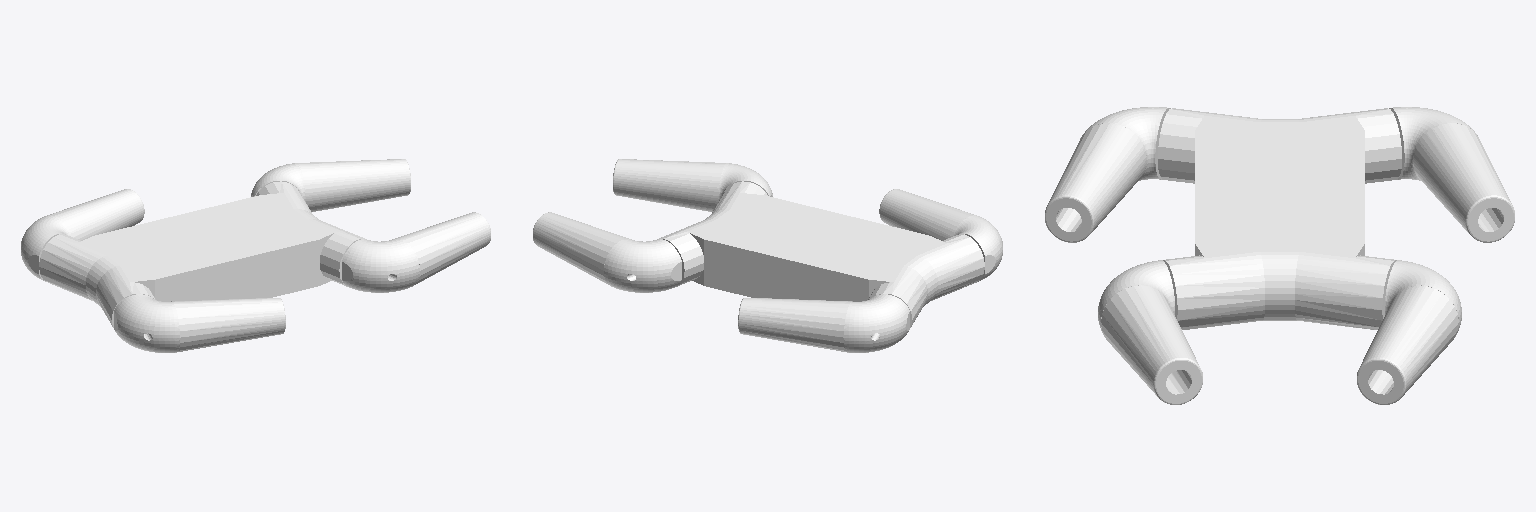
The robot description file, URDF, robot "16_degree":
<?xml version="1.0" encoding="utf-8"?>
<!-- This URDF was automatically created by SolidWorks to URDF Exporter! Originally created by [author] ([email redacted]) 
     Commit Version: 1.5.1-0-g916b5db  Build Version: 1.5.7152.31018
     For more information, please see http://wiki.ros.org/sw_urdf_exporter -->
<robot
  name="16_degree">
  <link
    name="base_link">
    <inertial>
      <origin
        xyz="-2.7756E-17 5.5257E-08 5.2042E-18"
        rpy="0 0 0" />
      <mass
        value="2.803" />
      <inertia
        ixx="0.009941766"
        ixy="-4.2319E-18"
        ixz="-8.4142E-11"
        iyy="0.041207589"
        iyz="2.9038E-18"
        izz="0.048782193" />
    </inertial>
    <visual>
      <origin
        xyz="0 0 0"
        rpy="0 0 0" />
      <geometry>
        <mesh
          filename="package://16_degree/meshes/base_link.STL" />
      </geometry>
      <material
        name="">
        <color
          rgba="1 1 1 1" />
      </material>
    </visual>
    <collision>
      <origin
        xyz="0 0 0"
        rpy="0 0 0" />
      <geometry>
        <mesh
          filename="package://16_degree/meshes/base_link.STL" />
      </geometry>
    </collision>
  </link>
  <link
    name="left_fromt_link">
    <inertial>
      <origin
        xyz="-1.0563E-07 0.070185 -0.017552"
        rpy="0 0 0" />
      <mass
        value="0.0896" />
      <inertia
        ixx="0.000297234"
        ixy="3.2358E-10"
        ixz="6.0751E-10"
        iyy="0.000056711"
        iyz="-0.000045165"
        izz="0.000288163" />
    </inertial>
    <visual>
      <origin
        xyz="0 0 0"
        rpy="0 0 0" />
      <geometry>
        <mesh
          filename="package://16_degree/meshes/left_fromt_link.STL" />
      </geometry>
      <material
        name="">
        <color
          rgba="1 1 1 1" />
      </material>
    </visual>
    <collision>
      <origin
        xyz="0 0 0"
        rpy="0 0 0" />
      <geometry>
        <mesh
          filename="package://16_degree/meshes/left_fromt_link.STL" />
      </geometry>
    </collision>
  </link>
  <joint
    name="left_front_leg"
    type="continuous">
    <origin
      xyz="0.15839 0.09901 0"
      rpy="1.5708 1.5708 0" />
    <parent
      link="base_link" />
    <child
      link="left_fromt_link" />
    <axis
      xyz="0 0.27564 -0.96126" />
    <limit
      effort="5"
      velocity="487" />
  </joint>
  <link
    name="right_front_link">
    <inertial>
      <origin
        xyz="1.0563E-07 0.070185 0.017552"
        rpy="0 0 0" />
      <mass
        value="0.0896" />
      <inertia
        ixx="0.000297234"
        ixy="-3.2358E-10"
        ixz="6.0751E-10"
        iyy="0.000056711"
        iyz="0.000045165"
        izz="0.000288163" />
    </inertial>
    <visual>
      <origin
        xyz="0 0 0"
        rpy="0 0 0" />
      <geometry>
        <mesh
          filename="package://16_degree/meshes/right_front_link.STL" />
      </geometry>
      <material
        name="">
        <color
          rgba="1 1 1 1" />
      </material>
    </visual>
    <collision>
      <origin
        xyz="0 0 0"
        rpy="0 0 0" />
      <geometry>
        <mesh
          filename="package://16_degree/meshes/right_front_link.STL" />
      </geometry>
    </collision>
  </link>
  <joint
    name="right_front_leg"
    type="continuous">
    <origin
      xyz="0.15839 -0.09901 0"
      rpy="1.5708 1.5708 0" />
    <parent
      link="base_link" />
    <child
      link="right_front_link" />
    <axis
      xyz="0 0.27564 0.96126" />
    <limit
      effort="5"
      velocity="487" />
  </joint>
  <link
    name="right_back_link">
    <inertial>
      <origin
        xyz="8.1858E-08 0.062629 0.036218"
        rpy="0 0 0" />
      <mass
        value="0.0896" />
      <inertia
        ixx="0.000297234"
        ixy="-5.67E-10"
        ixz="6.0413E-10"
        iyy="0.000050362"
        iyz="-0.000023023"
        izz="0.000294512" />
    </inertial>
    <visual>
      <origin
        xyz="0 0 0"
        rpy="0 0 0" />
      <geometry>
        <mesh
          filename="package://16_degree/meshes/right_back_link.STL" />
      </geometry>
      <material
        name="">
        <color
          rgba="1 1 1 1" />
      </material>
    </visual>
    <collision>
      <origin
        xyz="0 0 0"
        rpy="0 0 0" />
      <geometry>
        <mesh
          filename="package://16_degree/meshes/right_back_link.STL" />
      </geometry>
    </collision>
  </link>
  <joint
    name="right_back_leg"
    type="continuous">
    <origin
      xyz="-0.15839 -0.09901 0"
      rpy="1.85 1.5708 0" />
    <parent
      link="base_link" />
    <child
      link="right_back_link" />
    <axis
      xyz="0 0 1" />
    <limit
      effort="5"
      velocity="487" />
  </joint>
  <link
    name="left_back_link">
    <inertial>
      <origin
        xyz="-8.1858E-08 0.05022 -0.052078"
        rpy="0 0 0" />
      <mass
        value="0.0896" />
      <inertia
        ixx="0.000297234"
        ixy="7.1156E-10"
        ixz="4.2444E-10"
        iyy="0.000081112"
        iyz="0.000084215"
        izz="0.000263762" />
    </inertial>
    <visual>
      <origin
        xyz="0 0 0"
        rpy="0 0 0" />
      <geometry>
        <mesh
          filename="package://16_degree/meshes/left_back_link.STL" />
      </geometry>
      <material
        name="">
        <color
          rgba="1 1 1 1" />
      </material>
    </visual>
    <collision>
      <origin
        xyz="0 0 0"
        rpy="0 0 0" />
      <geometry>
        <mesh
          filename="package://16_degree/meshes/left_back_link.STL" />
      </geometry>
    </collision>
  </link>
  <joint
    name="left_back_leg"
    type="continuous">
    <origin
      xyz="-0.15839 0.09901 0"
      rpy="1.5708 1.5708 0" />
    <parent
      link="base_link" />
    <child
      link="left_back_link" />
    <axis
      xyz="0 -0.27564 -0.96126" />
    <limit
      effort="5"
      velocity="487" />
  </joint>
</robot>

--- Facts derived from the render (not from the file) ---
The picture shows the robot from 3 angles, left to right: view 1: azimuth 30°, elevation 25°; view 2: azimuth 150°, elevation 25°; view 3: azimuth 270°, elevation 25°; orthographic projection.
Model 16_degree with 5 links and 4 joints (4 continuous), rooted at base_link, posed every joint at zero.
Links seen in each view (by area): view 1: base_link, right_back_link, right_front_link, left_fromt_link, left_back_link; view 2: base_link, left_back_link, left_fromt_link, right_front_link, right_back_link; view 3: base_link, right_back_link, left_back_link, left_fromt_link, right_front_link.
Link boxes in pixels (<box>): base_link: <box>39,181,364,327</box>; right_back_link: <box>114,294,285,352</box>; right_front_link: <box>342,212,490,292</box>; left_fromt_link: <box>251,159,410,211</box>; left_back_link: <box>21,189,144,281</box>; base_link: <box>659,181,984,327</box>; left_back_link: <box>738,294,909,352</box>; left_fromt_link: <box>533,212,681,292</box>; right_front_link: <box>613,159,772,211</box>; right_back_link: <box>879,189,1002,281</box>; base_link: <box>1158,108,1401,329</box>; right_back_link: <box>1045,107,1170,242</box>; left_back_link: <box>1389,107,1514,242</box>; left_fromt_link: <box>1357,260,1461,404</box>; right_front_link: <box>1098,260,1202,404</box>.
Bounding box of the posed robot: 0.5372 × 0.4155 × 0.064 m (x, y, z).
5 mesh visuals loaded from 5 distinct referenced files (5 binary STL).